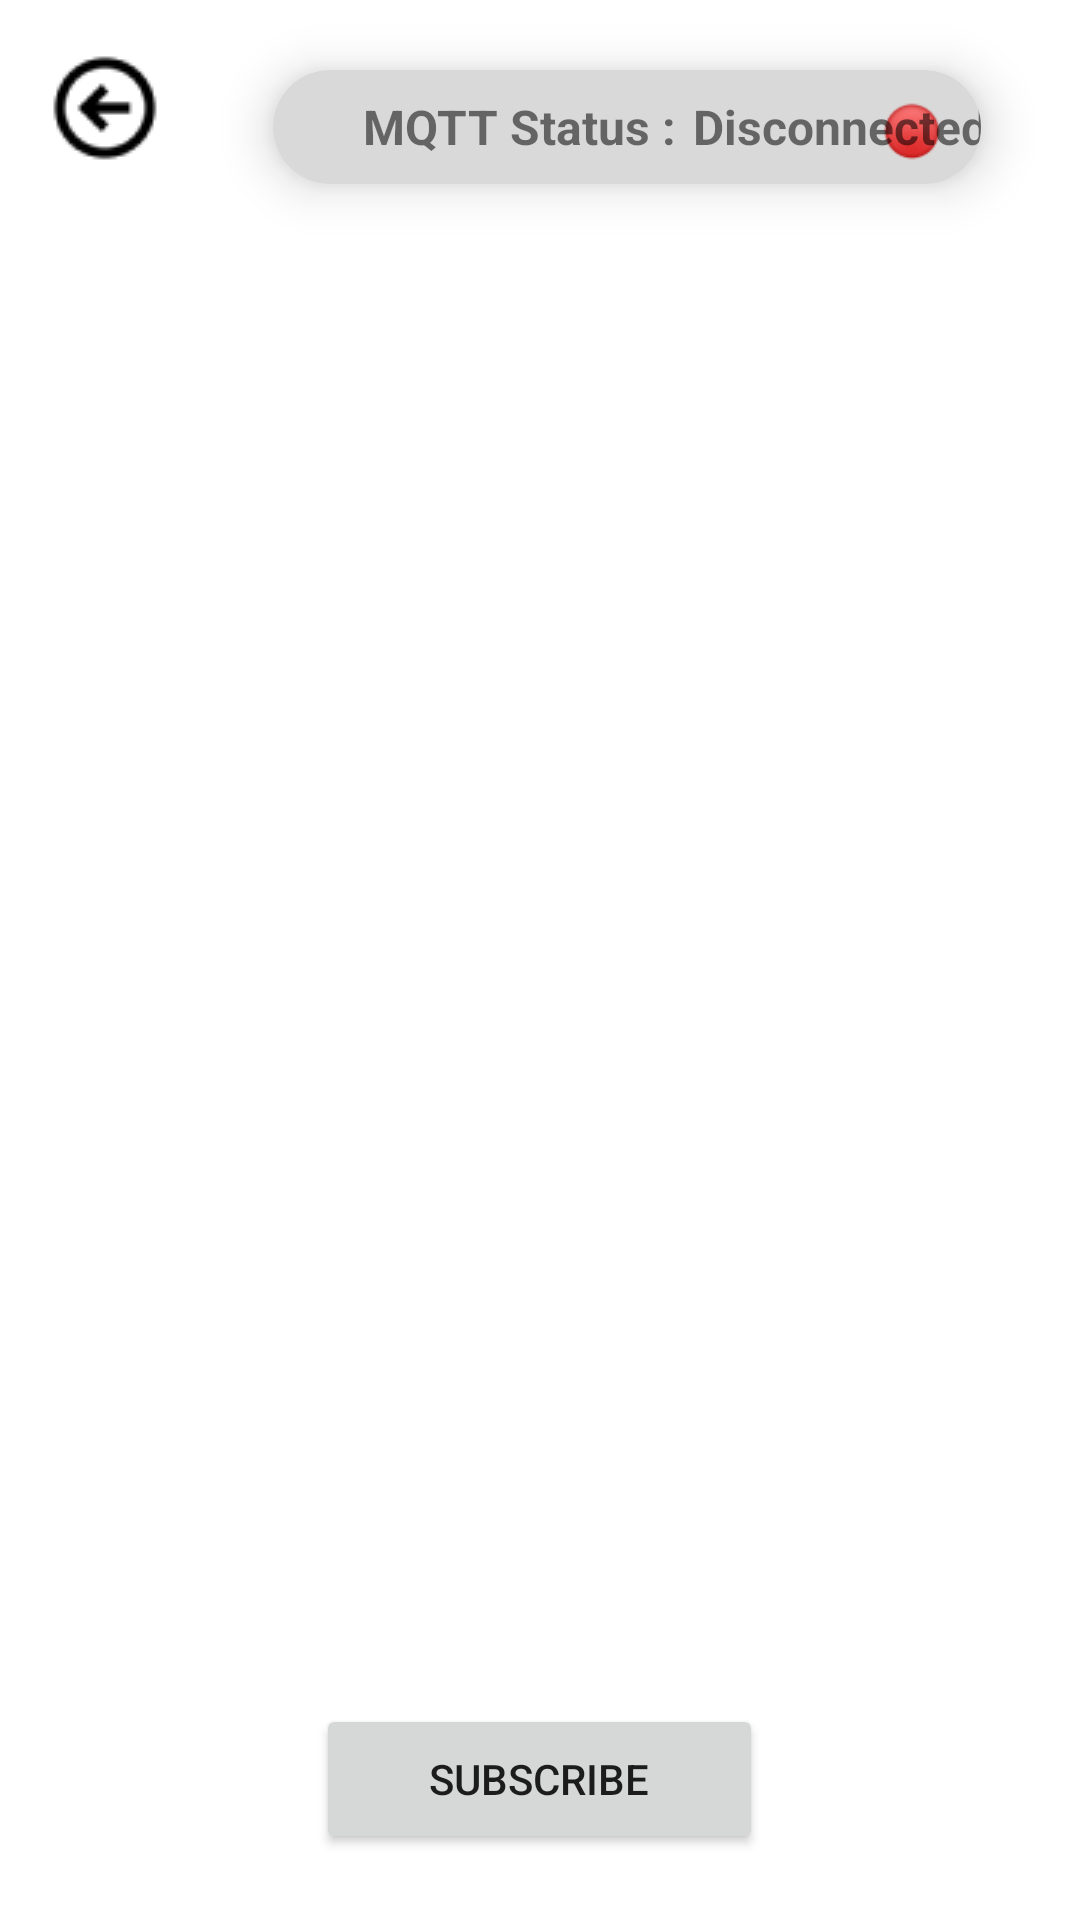

Screen size 1080px×1920px. Icon name, then its box in pixels as (x1, y1, x2, y2):
go back: (53, 56, 157, 160)
